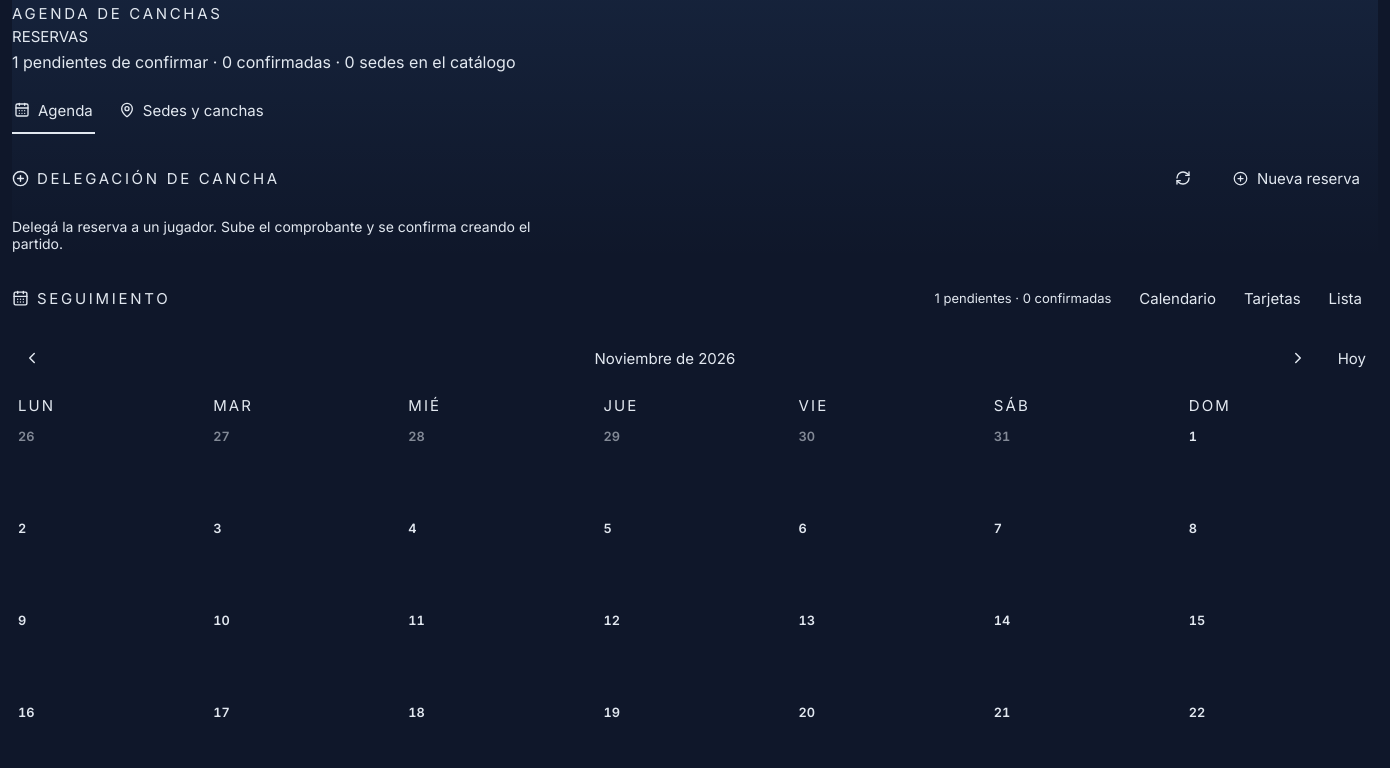
Test case: Reservas UI keeps confirmation rules › confirm needs a proof and delete is super-admin only
The width and height of the screenshot is (1390, 768).
Later steps or results of the test are not shown.
What coordinates should you click on to do the following:
click the button "Tarjetas"
I would click on:
 (1272, 298)
Its box is left=1232, top=280, right=1313, bottom=316.
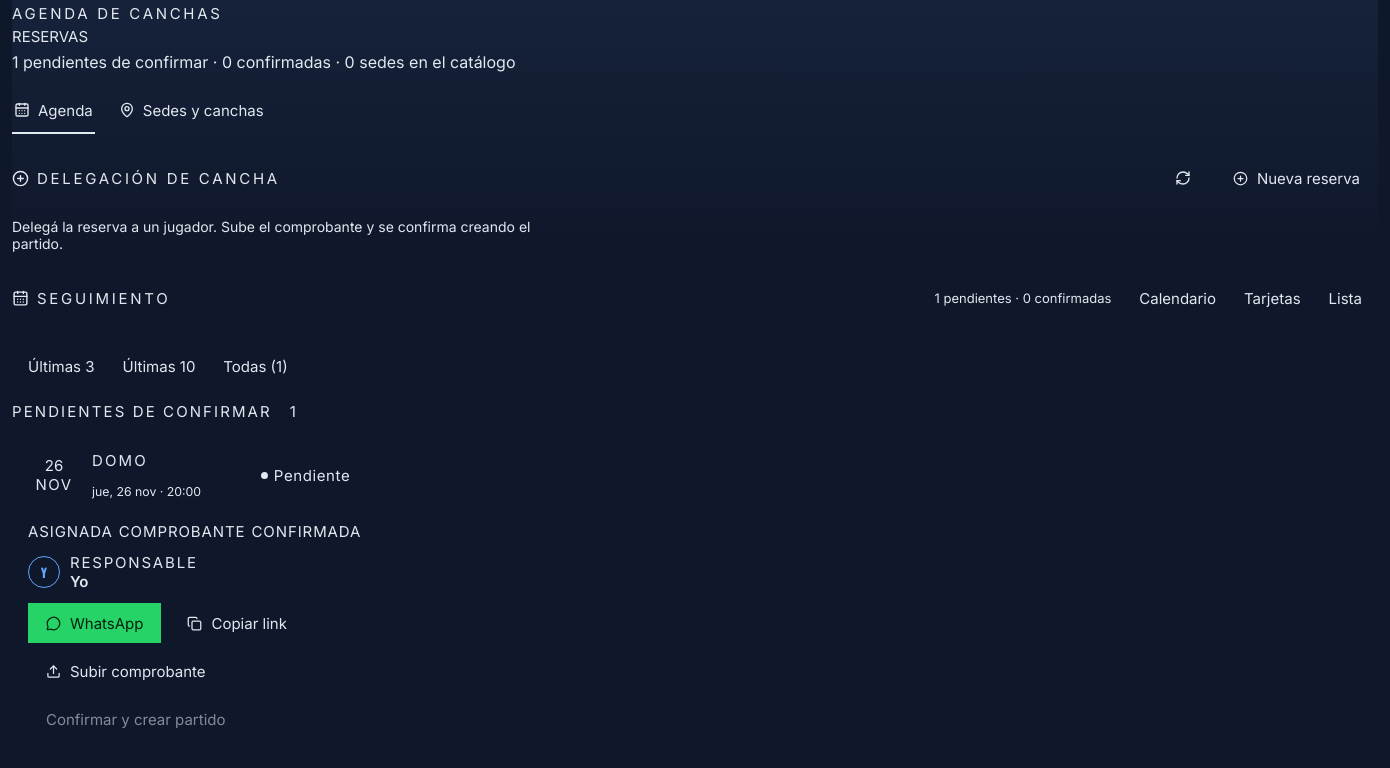
Check: the button "Confirmar y crear partido" is disabled, box left=28, top=699, right=244, bottom=739
